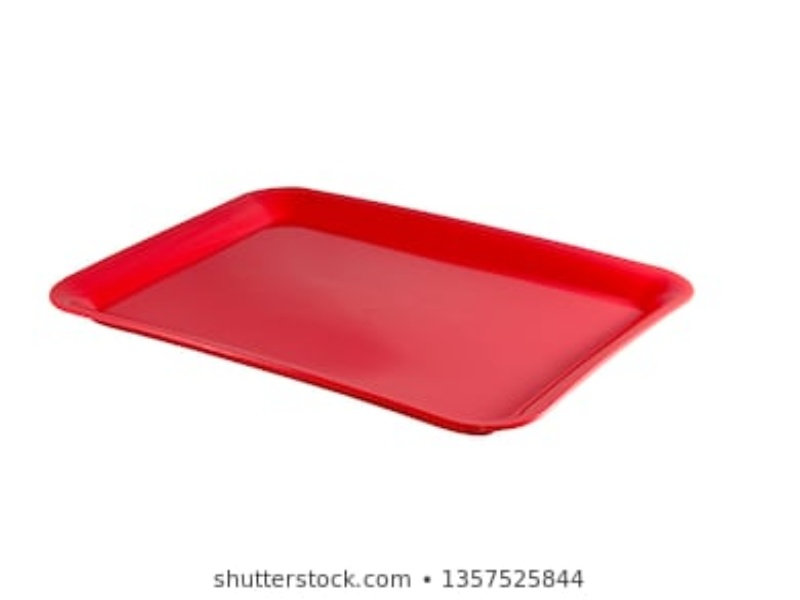plastic-tray: (49, 185, 695, 437)
